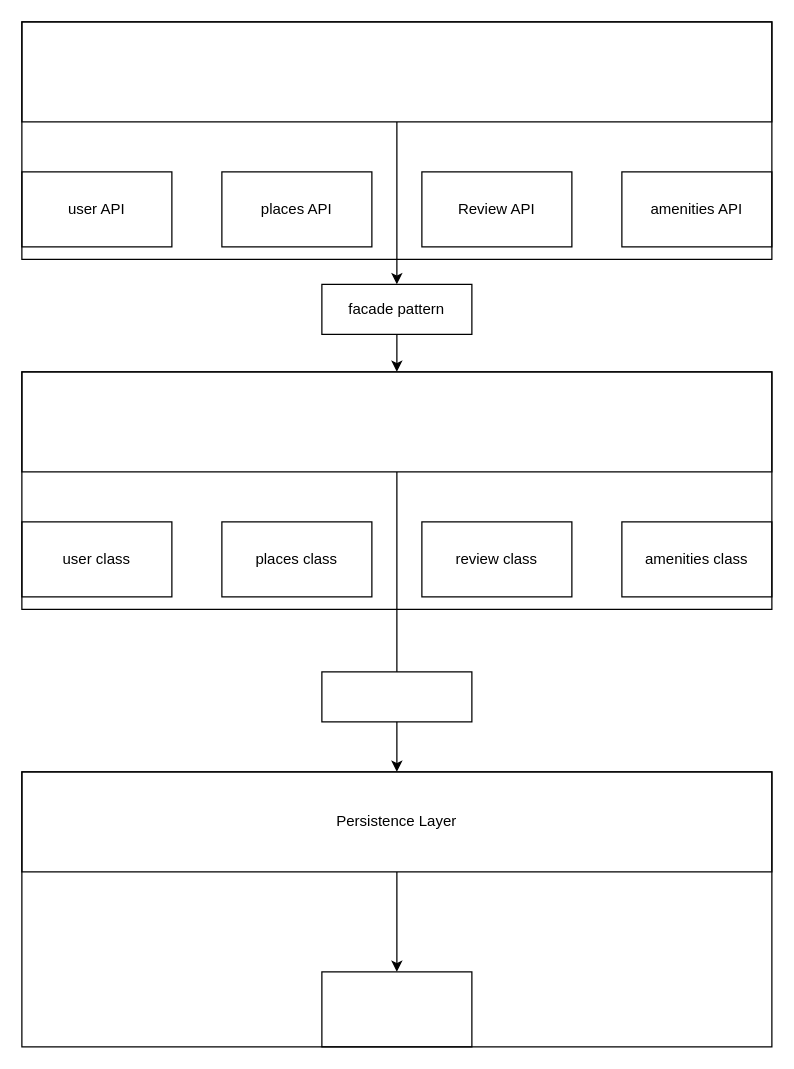
Some shapes in this 794 by 1069 pixel diagram are drawn without their labels. The box of each missing label's shape, as (x1, y1, x2, y2) in pixels:
Business Logic Layer: (21, 371, 772, 472)
database access: (321, 971, 472, 1047)
database operation: (321, 671, 472, 722)
Presentation Layer: (21, 21, 772, 122)
